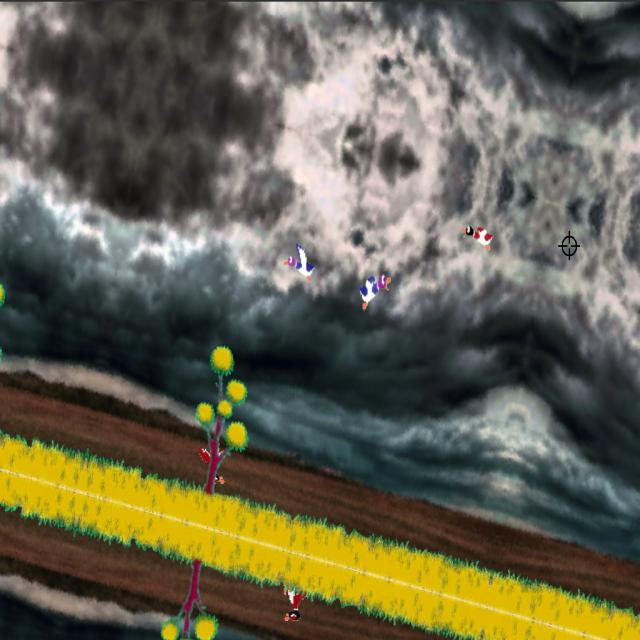duck: (282, 245, 320, 287), (357, 271, 393, 308), (460, 218, 495, 255)
falling_duck: (198, 444, 231, 489), (280, 578, 310, 627)
